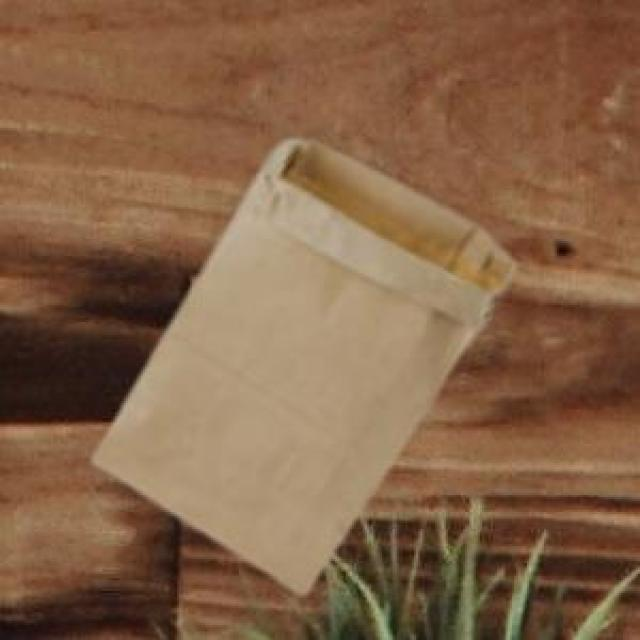paper: (90, 137, 510, 589)
